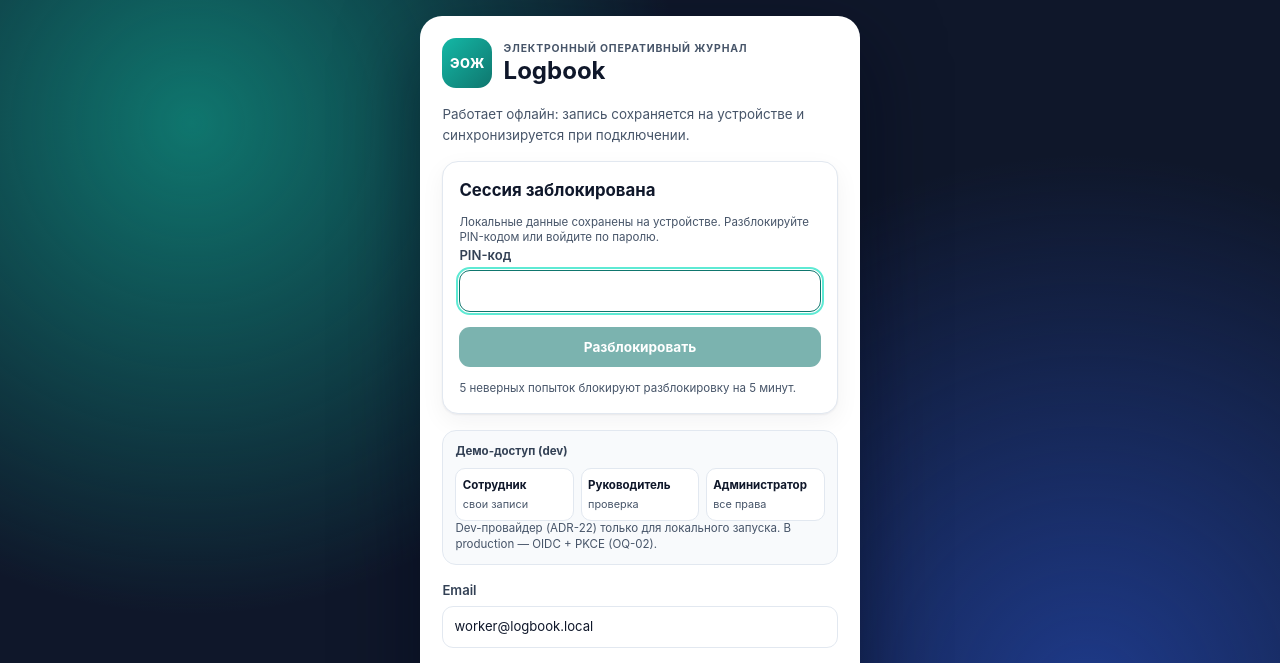
Test case: LoginScreen local unlock (AUTH-03) › shows the wrong-PIN message from the verifier
The width and height of the screenshot is (1280, 663).
Type "1357" into the password field labelled "PIN-код".
click(640, 291); type("1357")  # box [459,270,821,312]
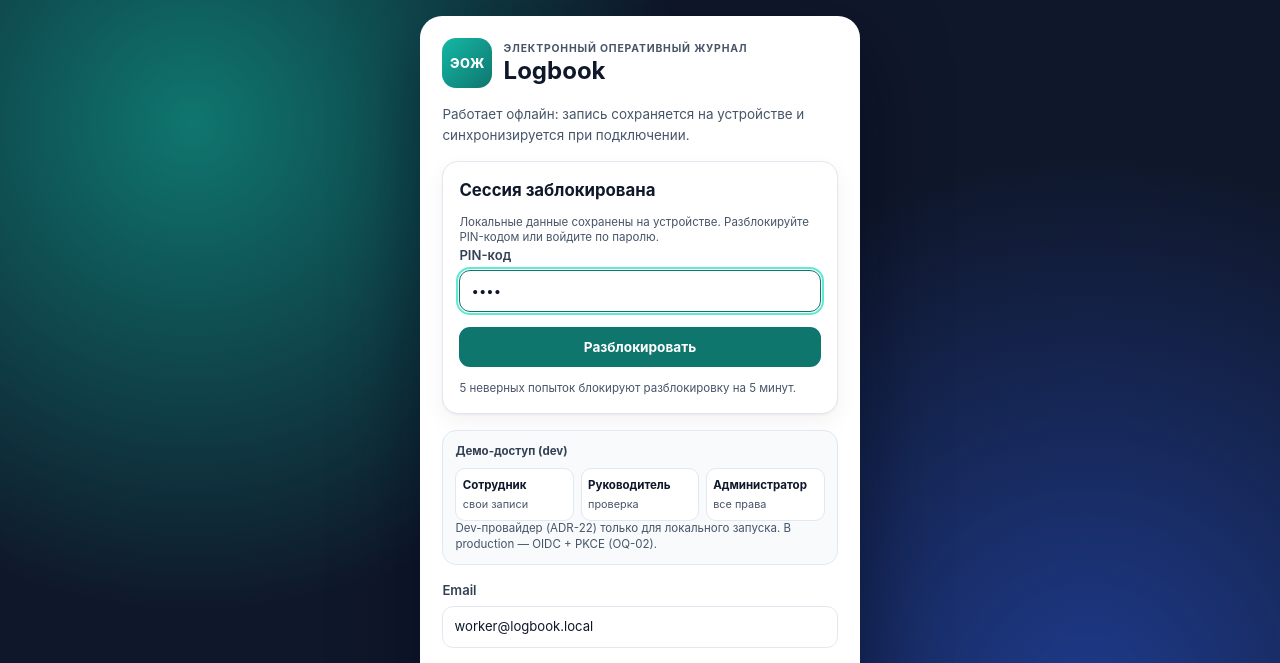
Click the button "Разблокировать".
click(640, 347)  # box [459,327,821,367]
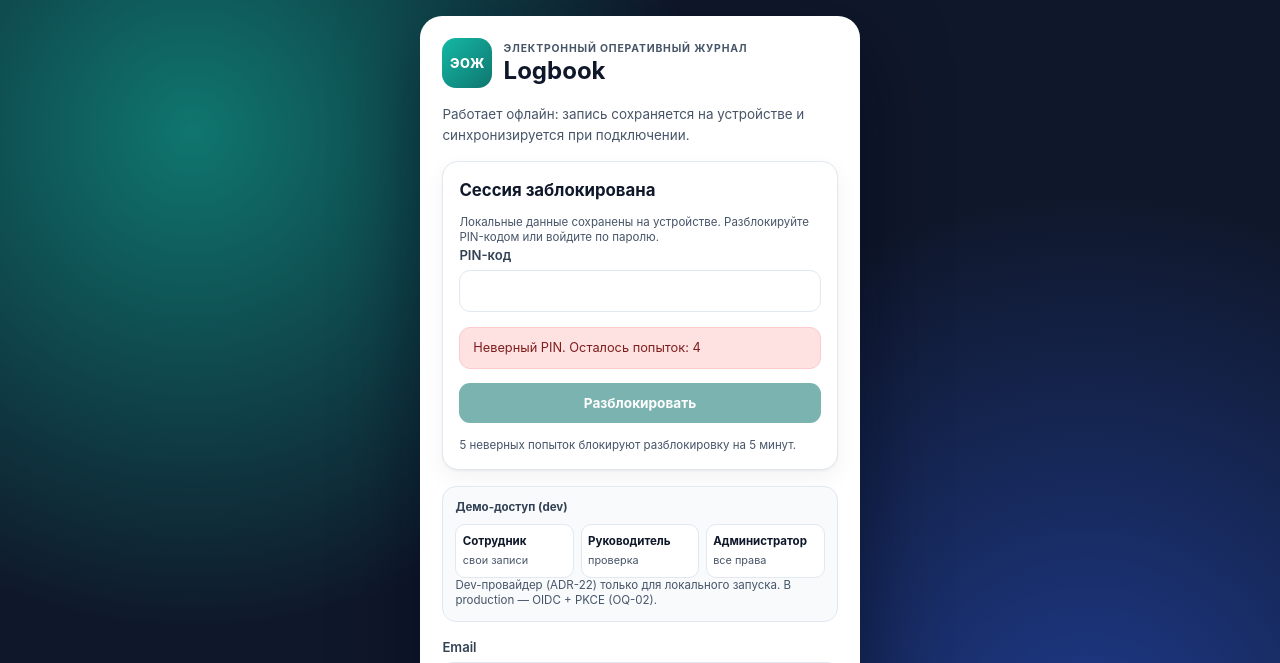
Result: the message reads "Неверный PIN. Осталось попыток: 4" at [473,340,701,355]
Result: the password field labelled "PIN-код" is empty at [459,270,821,312]
